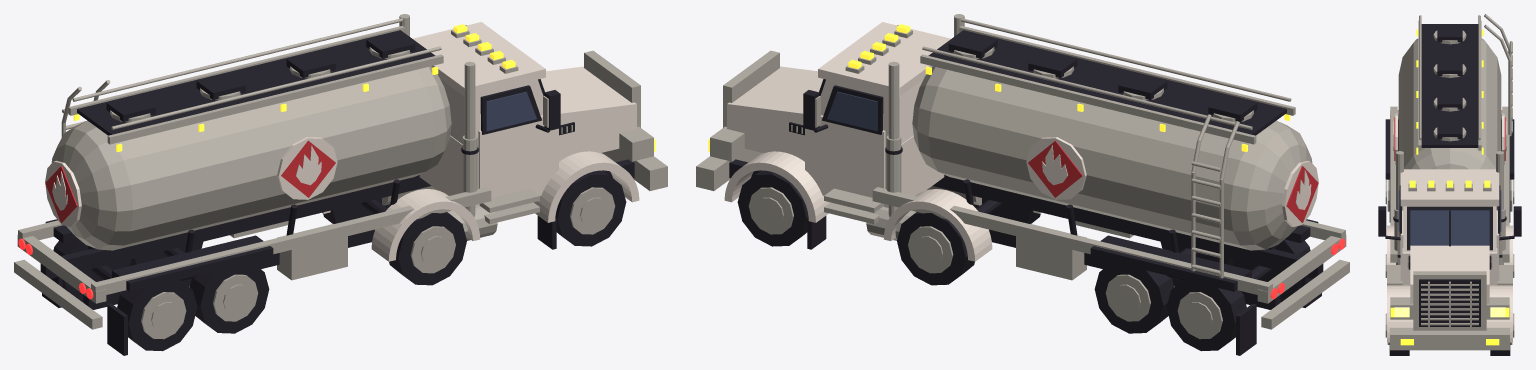
The model's file is veh.fuel-truck.lod1.glb.
3 views of the same model, side by side, from view 1: azimuth 30°, elevation 25°; view 2: azimuth 150°, elevation 25°; view 3: azimuth 270°, elevation 25° (orthographic). The views are drawn at different scales.
Visible parts, largest first — view 1: body, object 8, wheelRL, wheelFL, wheelRR; view 2: body, object 8, wheelRR, wheelFR, wheelRL; view 3: body, object 8, wheelFL, wheelFR, lightsFront.
Boxes of the visible parts, <box> form: body: <box>14,14,667,355</box>; object 8: <box>130,25,560,333</box>; wheelRL: <box>117,279,197,351</box>; wheelFL: <box>555,170,626,246</box>; wheelRR: <box>53,239,131,302</box>; body: <box>696,14,1349,355</box>; object 8: <box>803,25,1233,333</box>; wheelRR: <box>1166,279,1246,351</box>; wheelFR: <box>737,170,808,246</box>; wheelRL: <box>1232,239,1310,302</box>; body: <box>1385,14,1514,350</box>; object 8: <box>1378,179,1521,317</box>; wheelFL: <box>1385,313,1409,355</box>; wheelFR: <box>1490,313,1514,355</box>; lightsFront: <box>1394,307,1409,317</box>.
Bounding box in the file's own units: 11.23 × 4.16 × 3.16.
